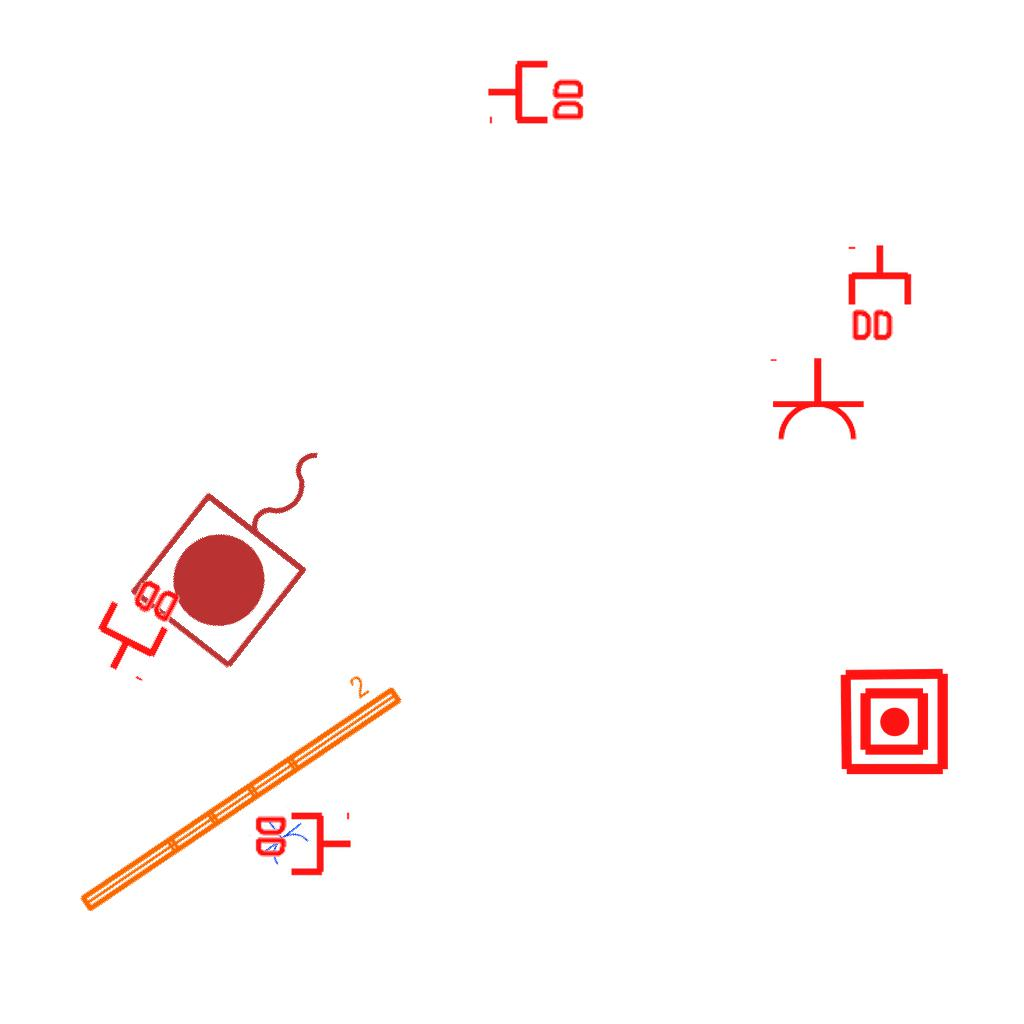Ambulanz_Pendelleuchte_LED: (57, 657, 410, 921)
Datenanschluss_zweifach: (79, 562, 188, 687), (847, 242, 916, 345), (485, 56, 588, 125), (251, 811, 354, 880)
NAM-Nichtautomatischer_Melder: (838, 665, 951, 778)
Schukosteckdose_einfach: (766, 356, 866, 443), (248, 805, 314, 870)
Zugtaster: (119, 401, 383, 683)
